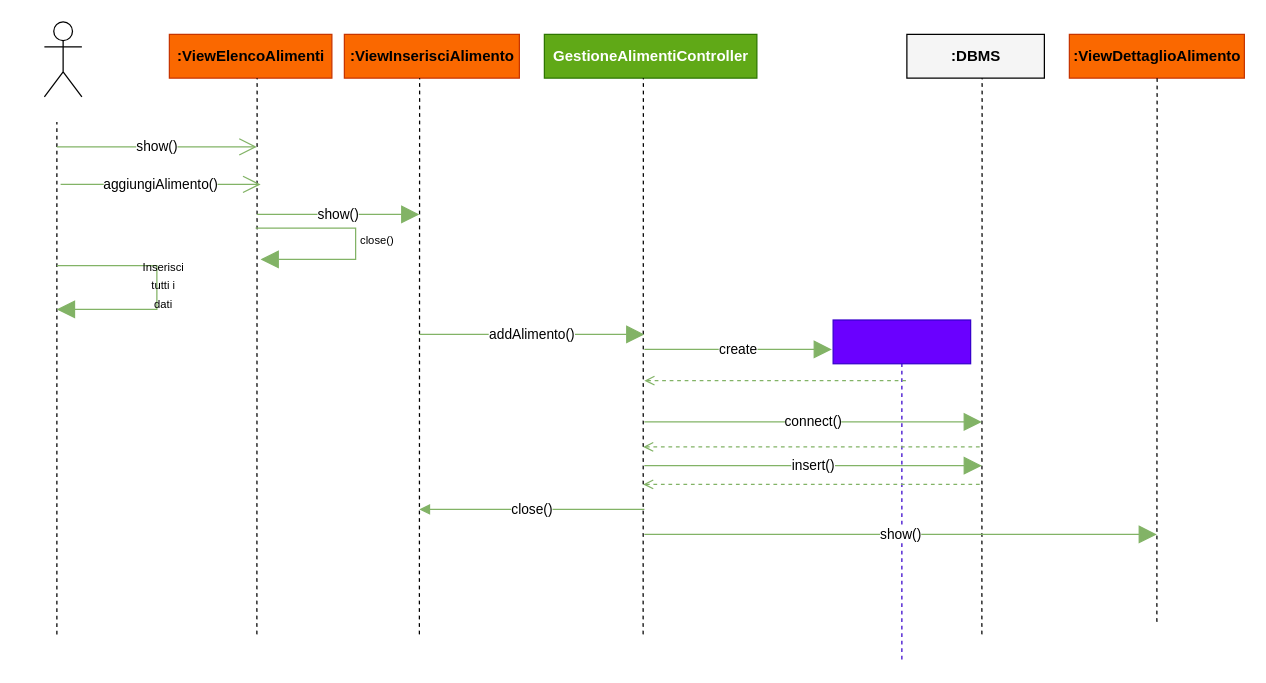
Some shapes in this 1266 by 683 pixel diagram are drawn without their labels. Each missing label, with the centre of its shape:
":Alimento" goes at [901,341].
"Nutrizionista" goes at [62,59].
